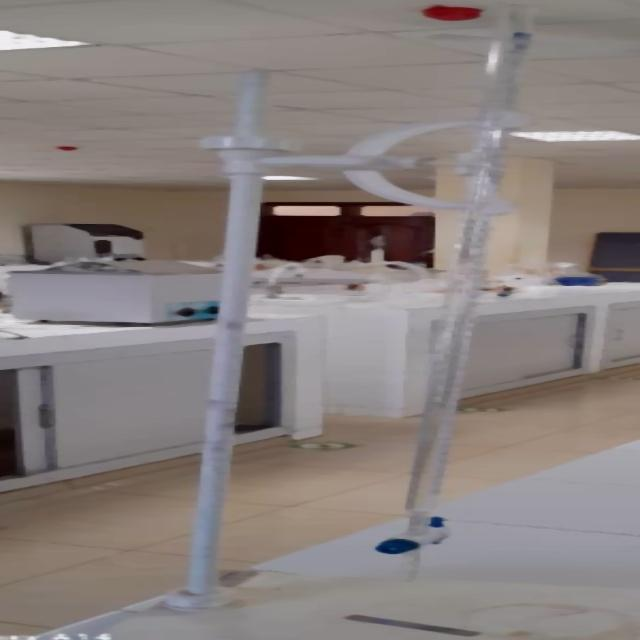Biurette: (322, 18, 564, 585)
